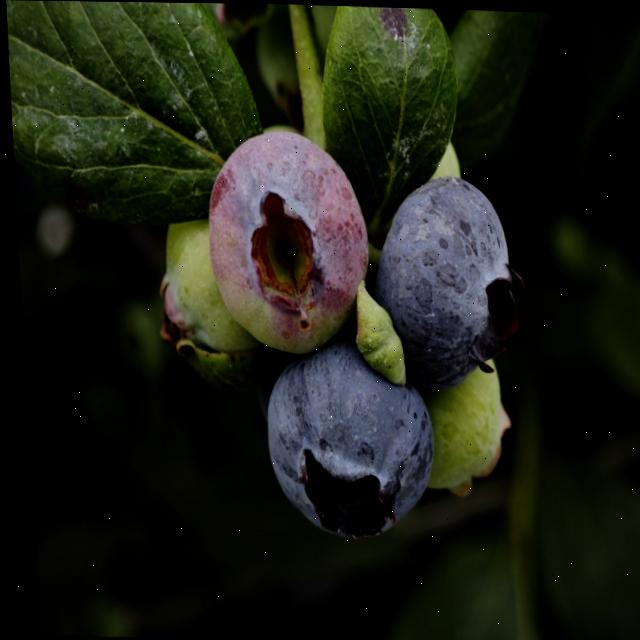RipeBlueBerry: (251, 333, 436, 546), (360, 168, 523, 388)
Semi-RipeBlueBerry: (195, 122, 373, 359)
UnripeBlueBerry: (150, 214, 265, 395), (398, 346, 509, 497)
